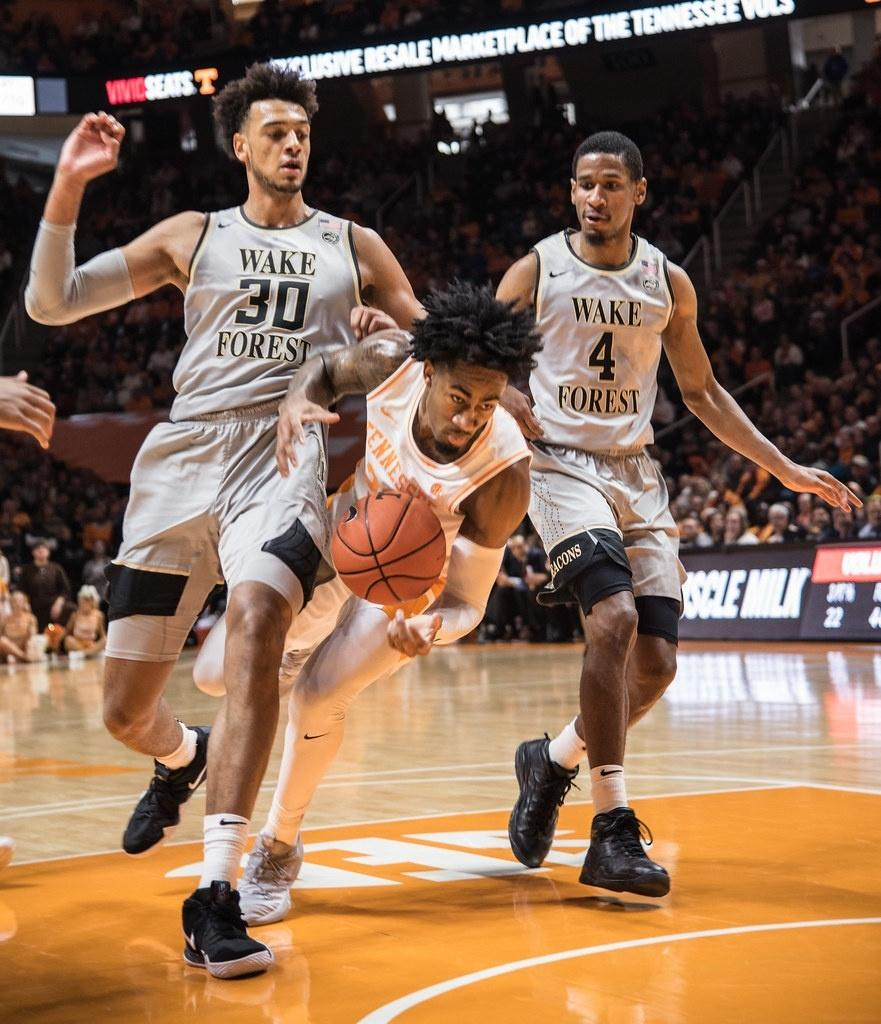basketball-player: (22, 61, 431, 979), (191, 283, 546, 930), (498, 318, 838, 968)
